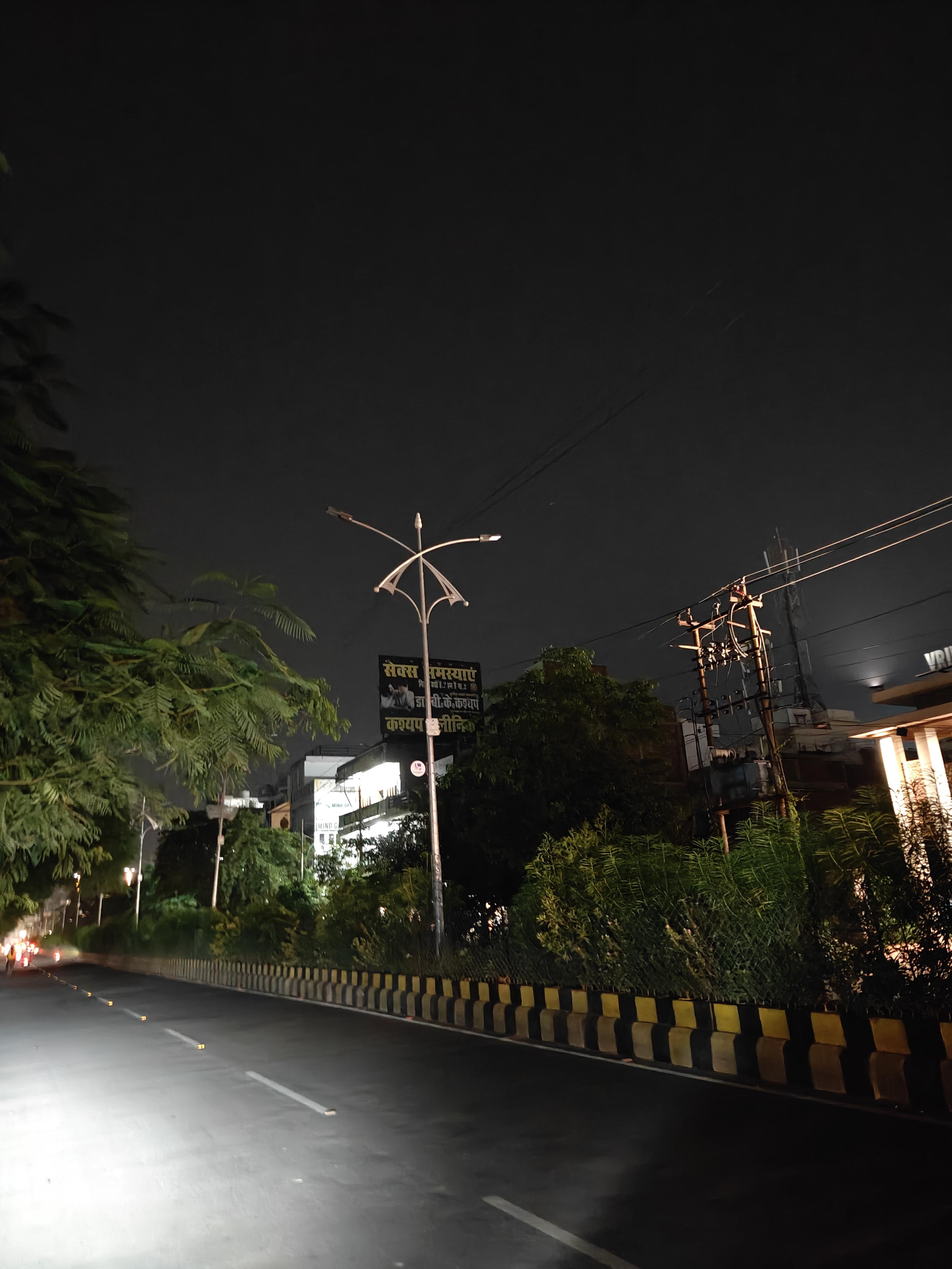streetlight: (323, 503, 412, 553)
